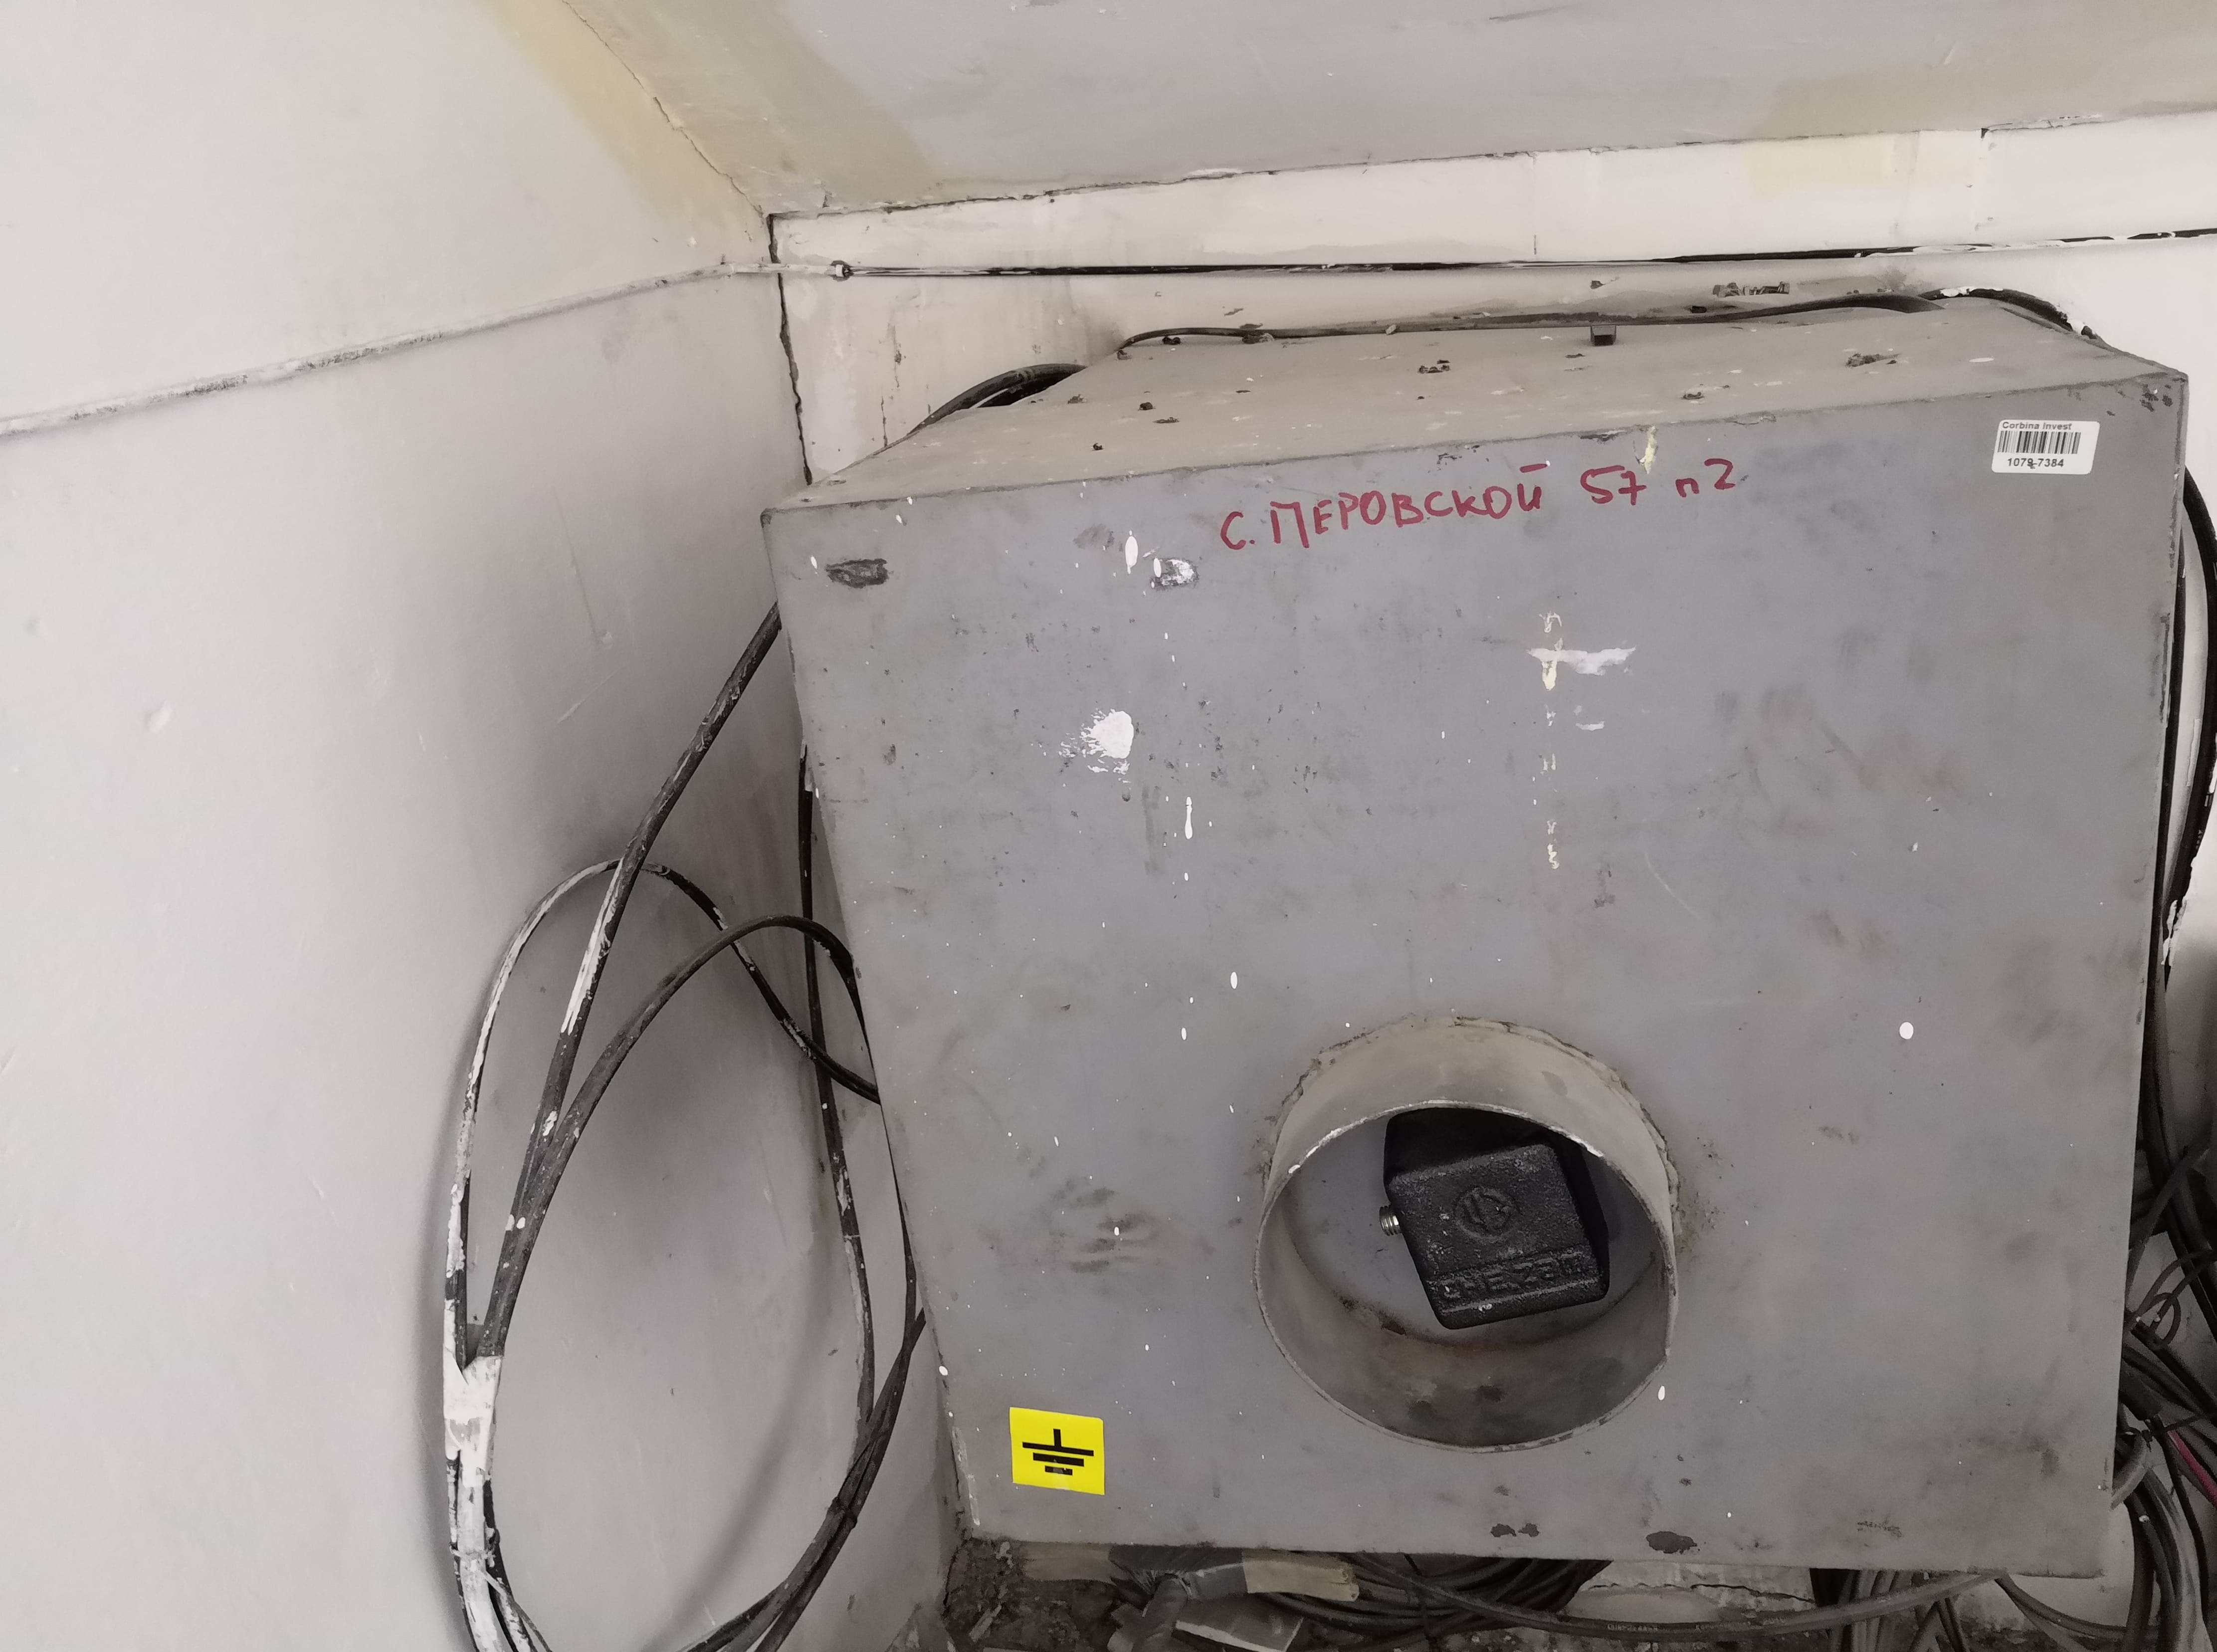shta-9: (741, 278, 2201, 1596)
